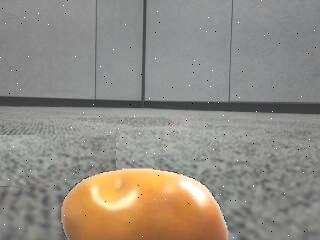Potato: (61, 168, 227, 240)
